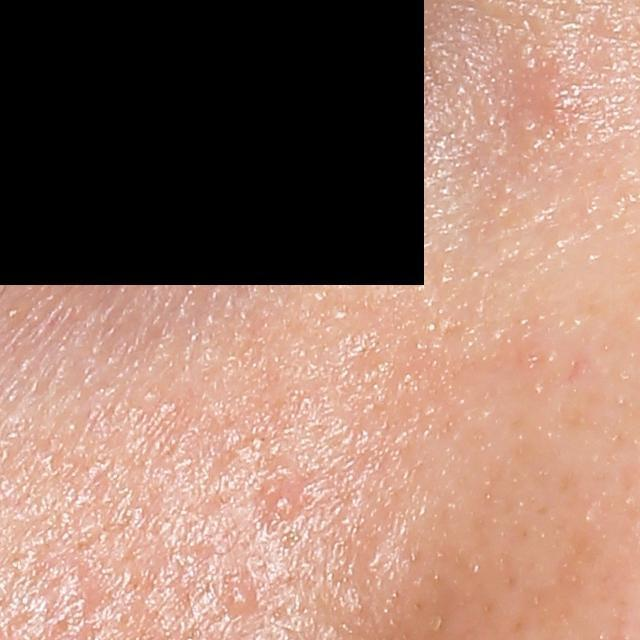comedo: (254, 468, 308, 522), (220, 575, 260, 621)
